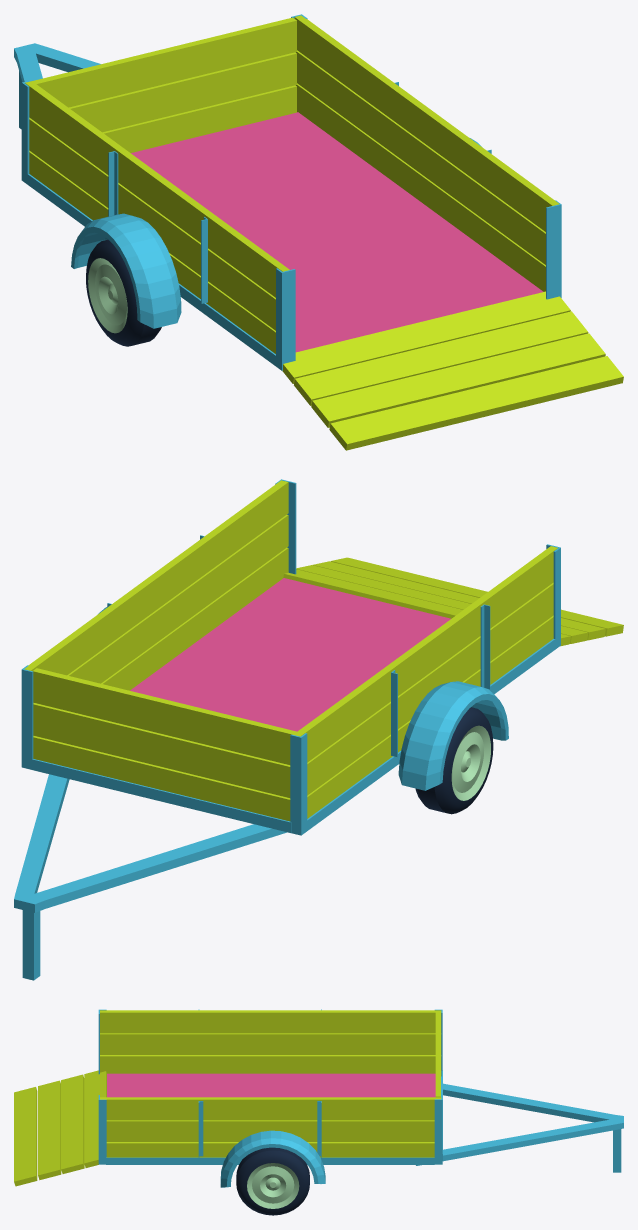
File: trailer.fbx
3 renders of one model, top to bottom at view 1: azimuth 30°, elevation 25°; view 2: azimuth 150°, elevation 25°; view 3: azimuth 270°, elevation 25°, orthographic. The views are drawn at different scales.
Parts seen in each view (by area): view 1: Cube.084, Cube.087, Cube.086, Cube.108, Cube.092, Cube.091, Cube.105, Cube.107, Cube.106, Cube.089, Cube.090, Cube.094 (+11 smaller); view 2: Cube.084, Cube.087, Cube.092, Cube.086, Cube.094, Cube.109, Cube.089, Cube.091, Cube.093, Cylinder.003, Cube.090, Cylinder.001 (+13 smaller); view 3: Cube.084, Cube.086, Cube.087, Cube.089, Cube.091, Cube.088, Cube.109, Cylinder.001, Cube.090, Cylinder.003, Cube.107, Cube.108 (+8 smaller).
Boxes of the visible parts, left/top/right/bottom form: Cube.084: left=131, top=112, right=543, bottom=352; Cube.087: left=294, top=15, right=559, bottom=231; Cube.086: left=25, top=81, right=289, bottom=297; Cube.108: left=329, top=356, right=623, bottom=450; Cube.092: left=32, top=17, right=296, bottom=107; Cube.091: left=296, top=50, right=545, bottom=264; Cube.105: left=311, top=333, right=605, bottom=427; Cube.107: left=294, top=311, right=588, bottom=405; Cube.106: left=282, top=291, right=570, bottom=383; Cube.089: left=29, top=117, right=275, bottom=330; Cube.090: left=296, top=83, right=545, bottom=291; Cube.094: left=69, top=52, right=296, bottom=132; Cube.084: left=130, top=578, right=450, bottom=731; Cube.087: left=24, top=480, right=288, bottom=675; Cube.092: left=33, top=668, right=296, bottom=764; Cube.086: left=293, top=546, right=557, bottom=762; Cube.094: left=33, top=703, right=290, bottom=797; Cube.109: left=14, top=774, right=286, bottom=912; Cube.089: left=307, top=582, right=553, bottom=795; Cube.091: left=33, top=514, right=288, bottom=703; Cube.093: left=33, top=736, right=290, bottom=821; Cylinder.003: left=98, top=607, right=508, bottom=790; Cube.090: left=33, top=547, right=288, bottom=735; Cylinder.001: left=415, top=707, right=493, bottom=814; Cube.084: left=107, top=1073, right=435, bottom=1097; Cube.086: left=100, top=1010, right=441, bottom=1033; Cube.087: left=100, top=1097, right=441, bottom=1120; Cube.089: left=100, top=1033, right=441, bottom=1054; Cube.091: left=106, top=1120, right=434, bottom=1141; Cube.088: left=100, top=1055, right=441, bottom=1075; Cube.109: left=416, top=1083, right=623, bottom=1165; Cylinder.001: left=236, top=1147, right=309, bottom=1215; Cube.090: left=106, top=1142, right=434, bottom=1157; Cylinder.003: left=220, top=1130, right=325, bottom=1187; Cube.107: left=61, top=1074, right=84, bottom=1173; Cube.108: left=14, top=1087, right=37, bottom=1186.
Size of the model in its own units: 194 by 88.4 by 419.
